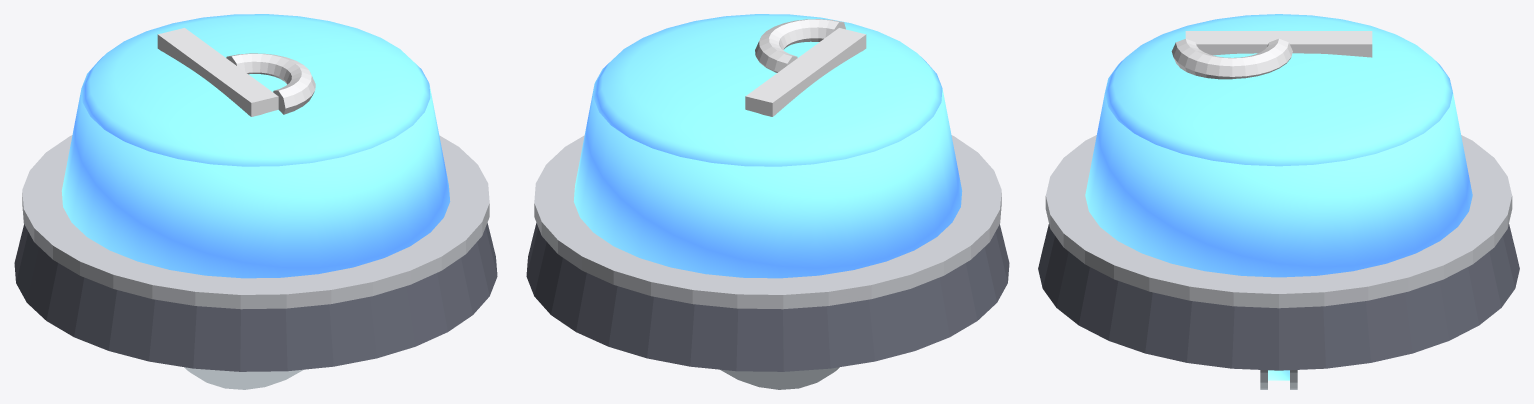
The picture shows the model from 3 angles, left to right: view 1: azimuth 30°, elevation 25°; view 2: azimuth 150°, elevation 25°; view 3: azimuth 270°, elevation 25°; orthographic projection.
Visible parts, largest first — view 1: EL_PSwitchCap, EL_PSwitch, EL_Coin; view 2: EL_PSwitchCap, EL_PSwitch, EL_Coin; view 3: EL_PSwitchCap, EL_PSwitch, EL_Coin.
Boxes of the visible parts, bbox=[...] form: EL_PSwitchCap: bbox=[61, 14, 450, 278]; EL_PSwitch: bbox=[14, 135, 497, 371]; EL_Coin: bbox=[184, 367, 303, 389]; EL_PSwitchCap: bbox=[573, 14, 962, 278]; EL_PSwitch: bbox=[526, 135, 1009, 371]; EL_Coin: bbox=[720, 367, 839, 389]; EL_PSwitchCap: bbox=[1085, 14, 1472, 277]; EL_PSwitch: bbox=[1038, 135, 1519, 370]; EL_Coin: bbox=[1260, 370, 1297, 389].
Size of the model in its own units: 3.1 by 2.33 by 3.1.
